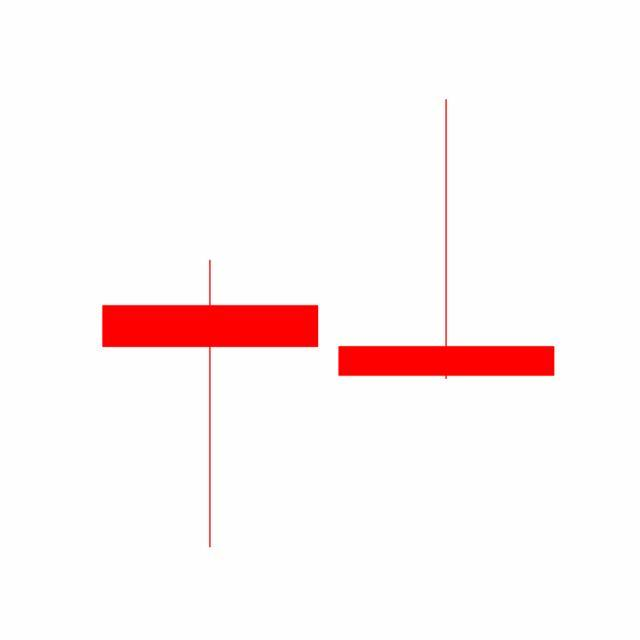Gravestone Doji: (328, 97, 566, 384)
